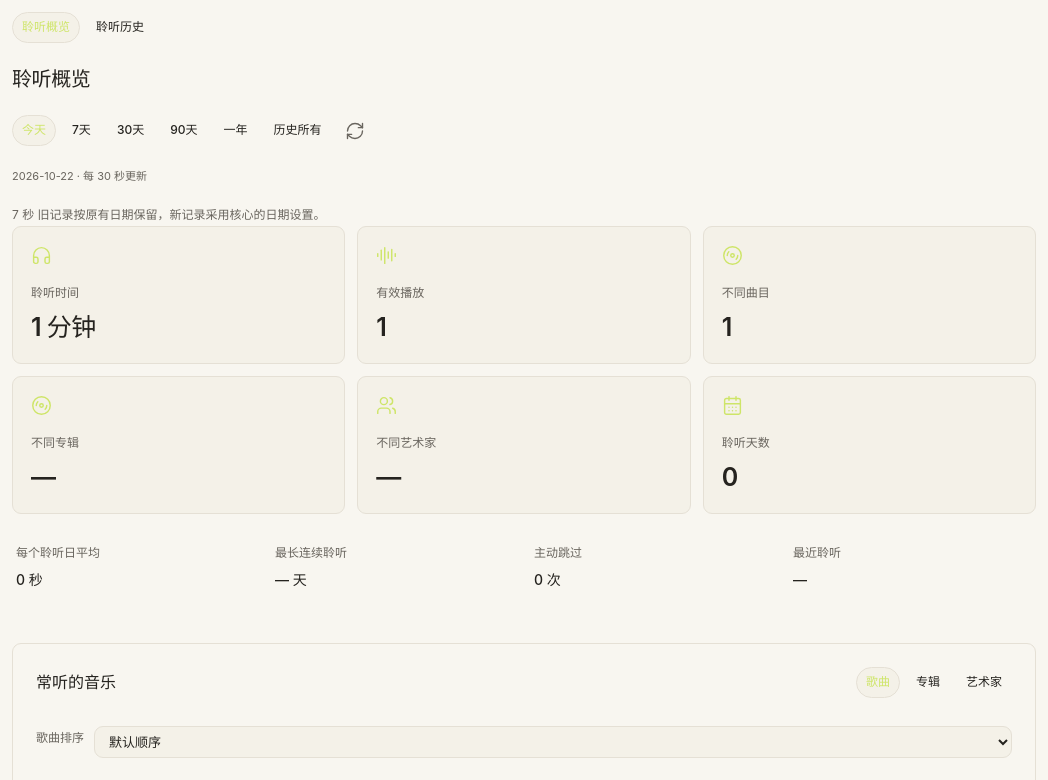
Test: 详细聆听记录读取失败可以就地重试，不需要关闭页面
What coordinates should you click on to do the following:
click the button "聆听历史"
I would click on:
 (120, 27)
Its box is top-left (86, 12), bottom-right (154, 43).
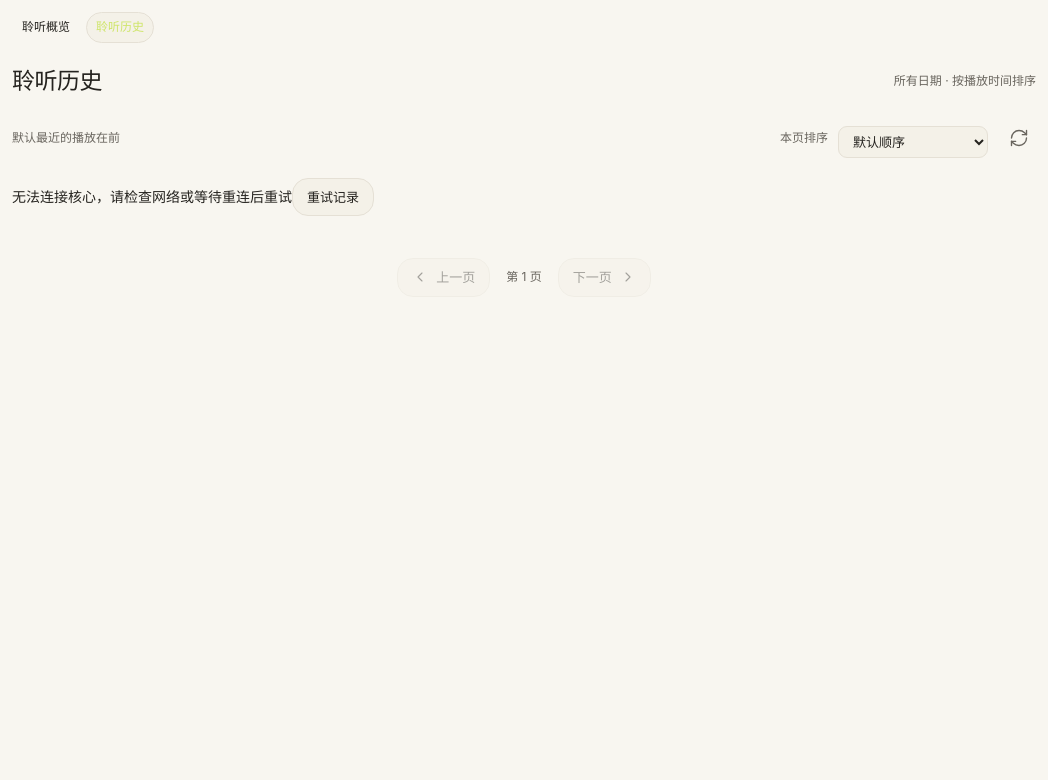
Now the text "无法连接核心" is shown, box top-left (12, 188), bottom-right (292, 205)
Now the button "重试记录" is shown
What coordinates should you click on to do the following:
click the button "重试记录"
I would click on:
 (333, 197)
Its box is top-left (292, 178), bottom-right (374, 216).
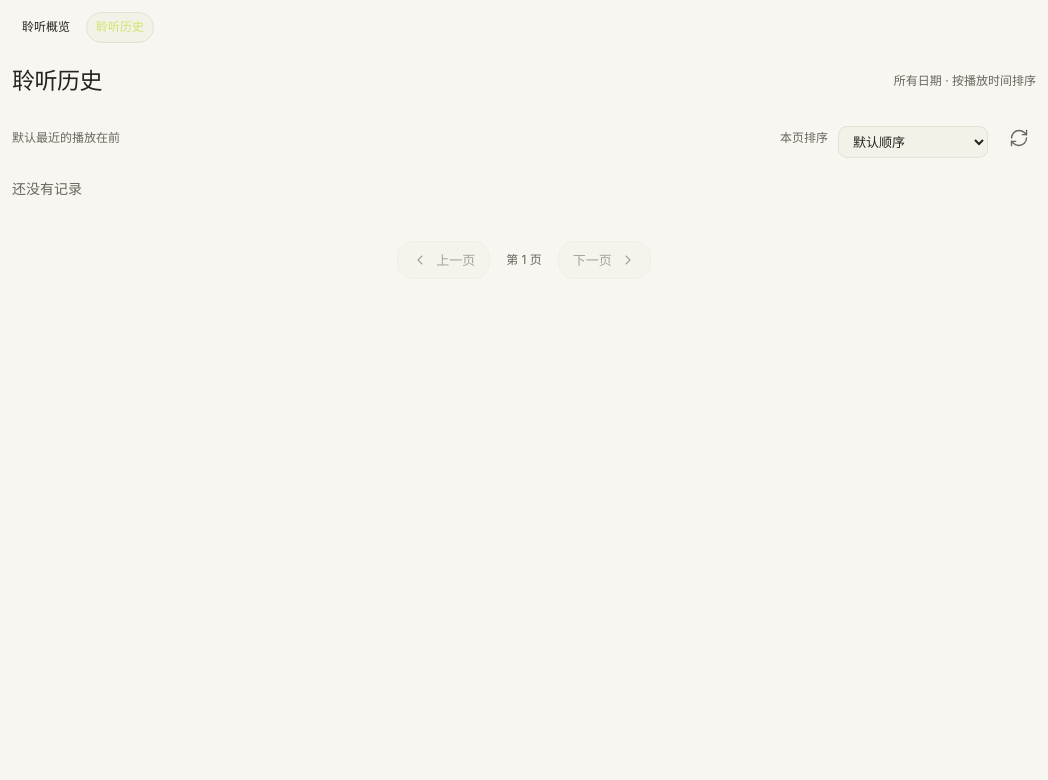
Now the text "还没有记录" is shown, box top-left (12, 180), bottom-right (82, 197)
